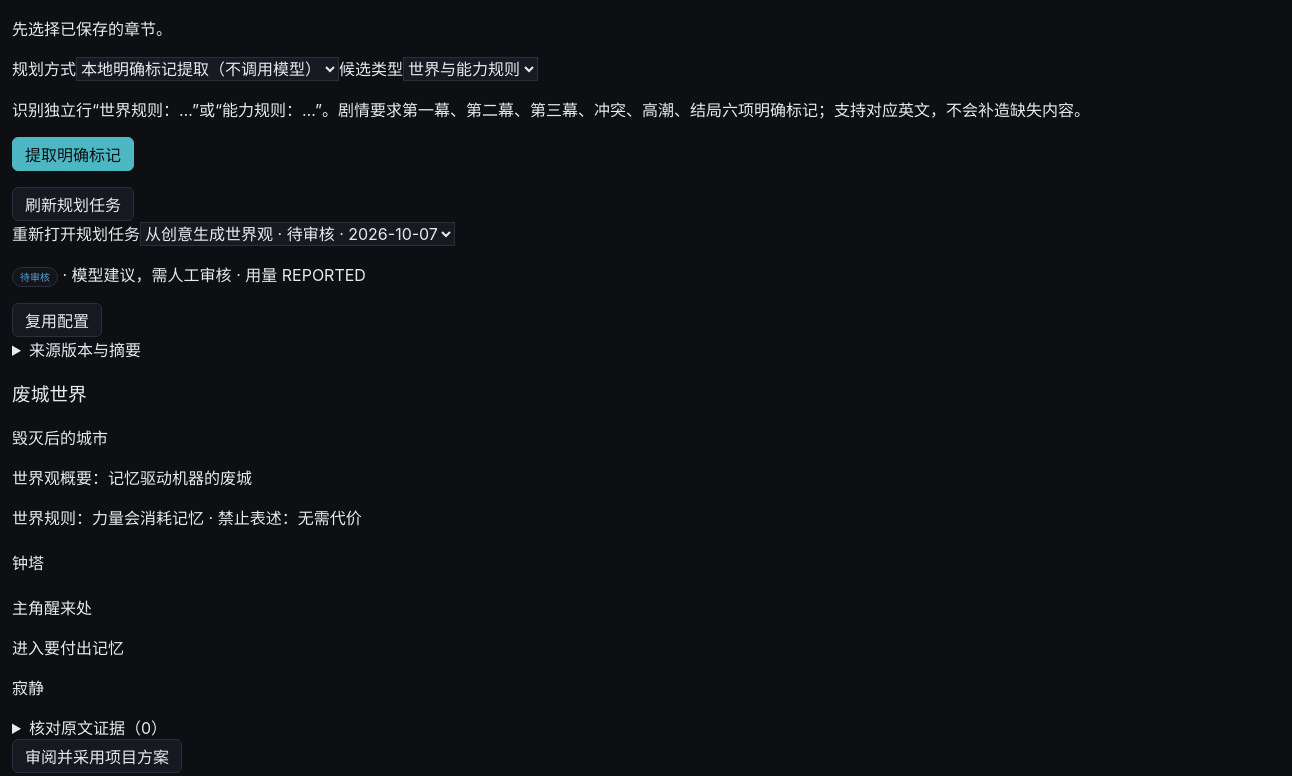
requires review and explicit confirmation, then sends exact run CAS only once
What coordinates should you click on to do the following:
click the button "审阅并采用项目方案"
I would click on:
 (97, 756)
Its box is [12,740,182,774].
(page scrolled)
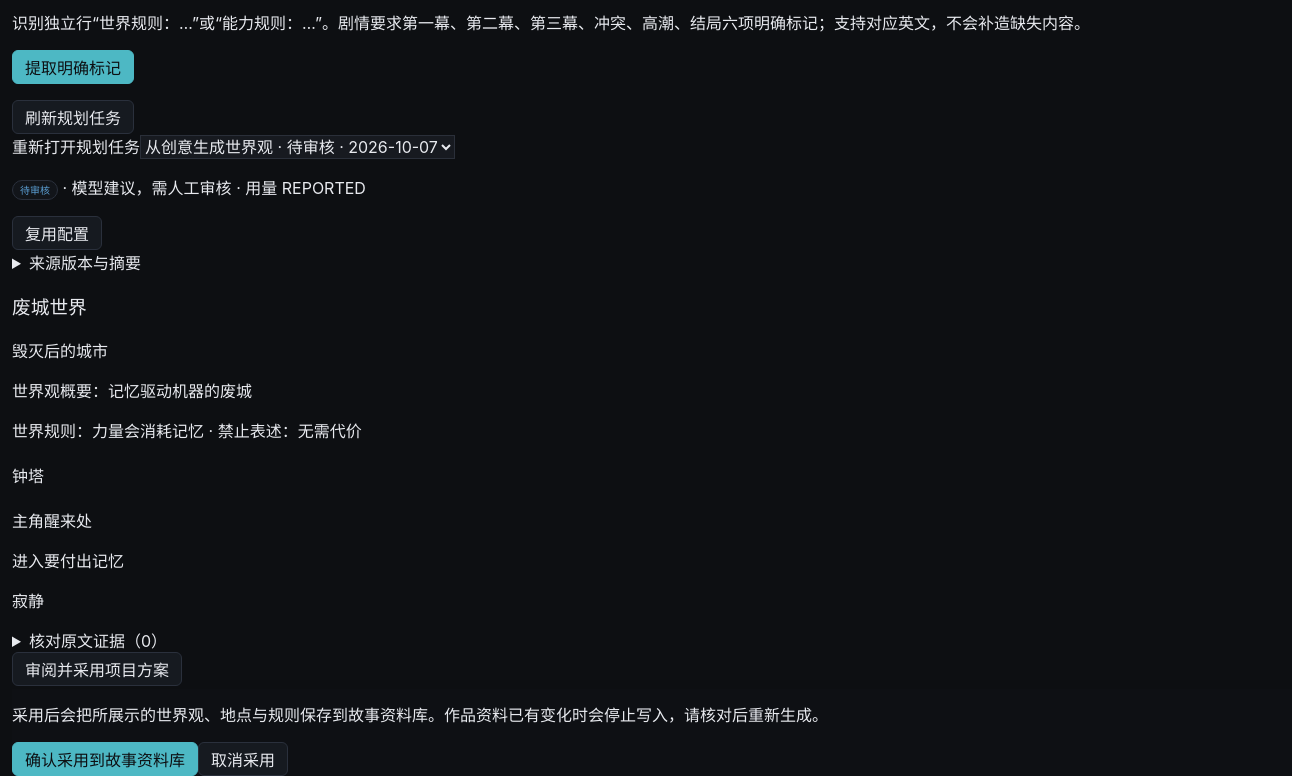
What coordinates should you click on to do the following:
click the button "确认采用到故事资料库"
I would click on:
 (105, 760)
Its box is [12,742,198,775].
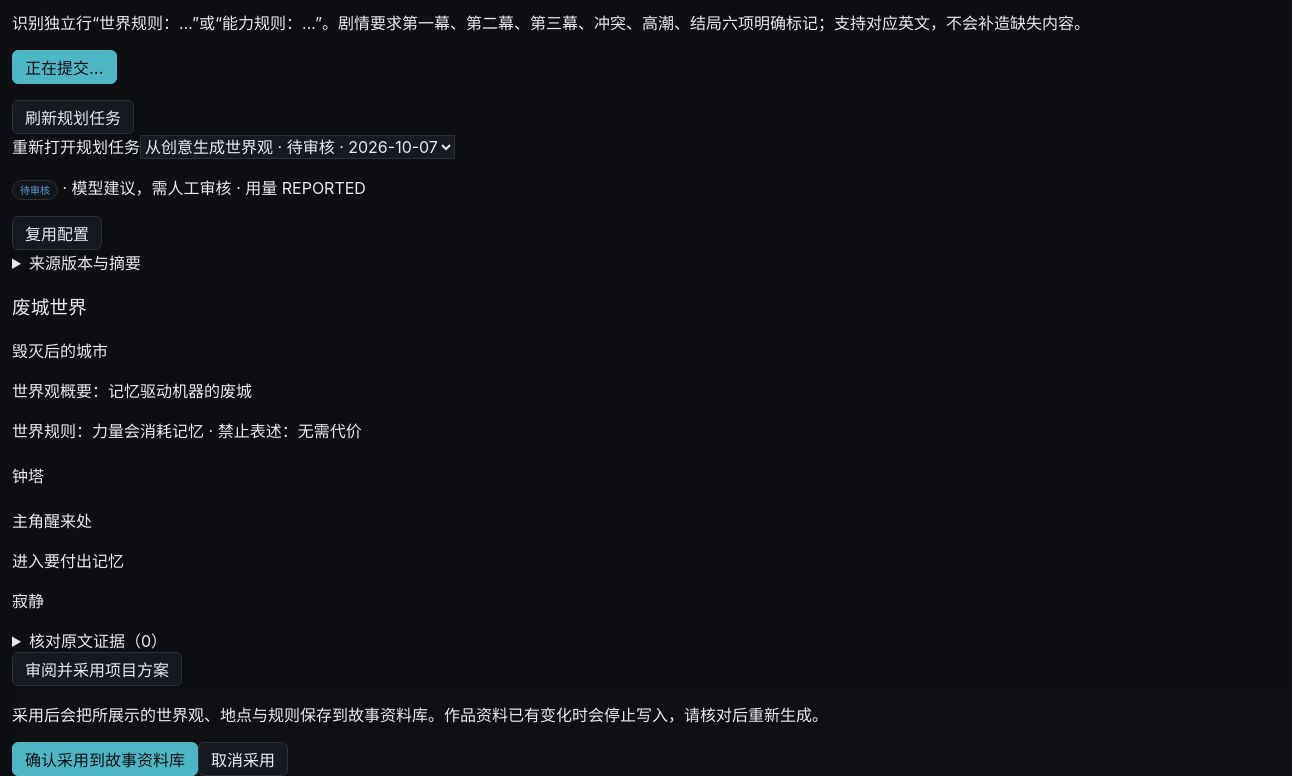
What coordinates should you click on to do the following:
click the button "确认采用到故事资料库"
I would click on:
 (105, 760)
Its box is [12,742,198,775].
(page scrolled)
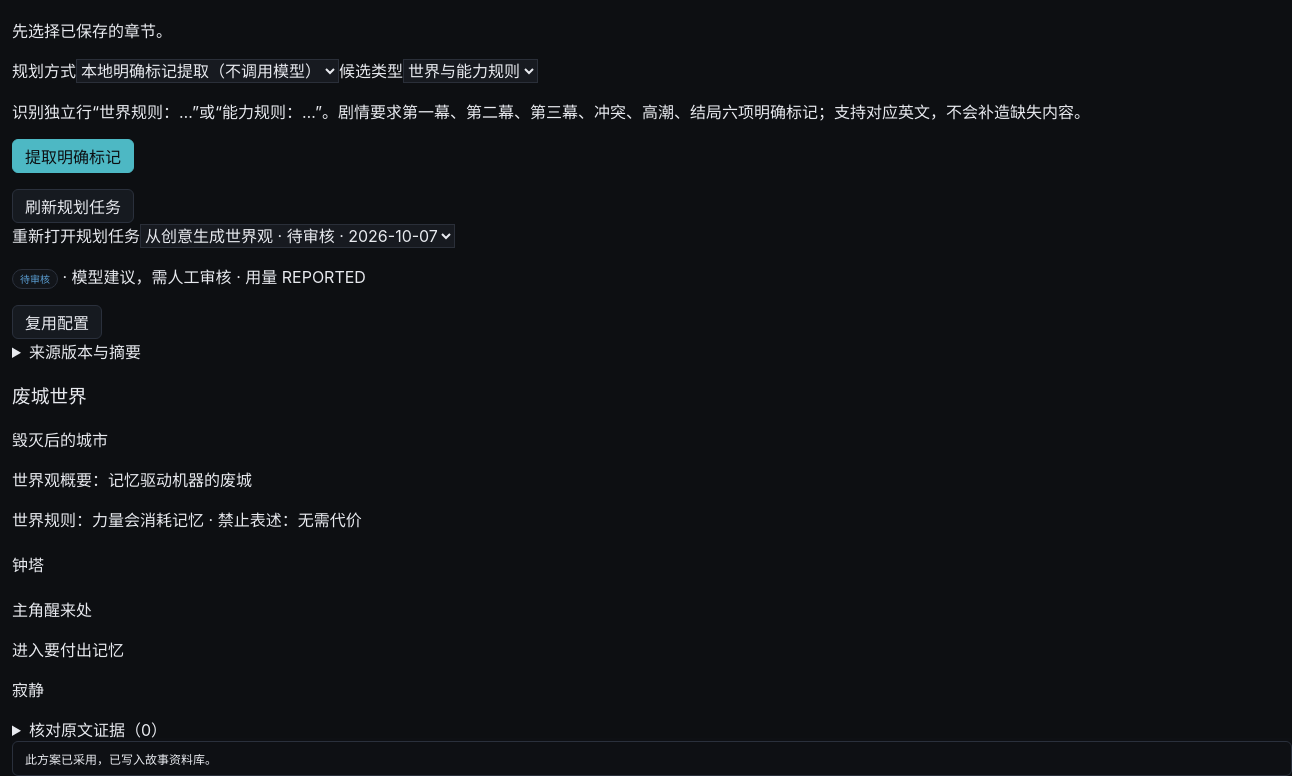
Now the text "此方案已采用，已写入故事资料库。" is shown, box [12,742,1291,775]
Now the button "确认采用到故事资料库" is gone
